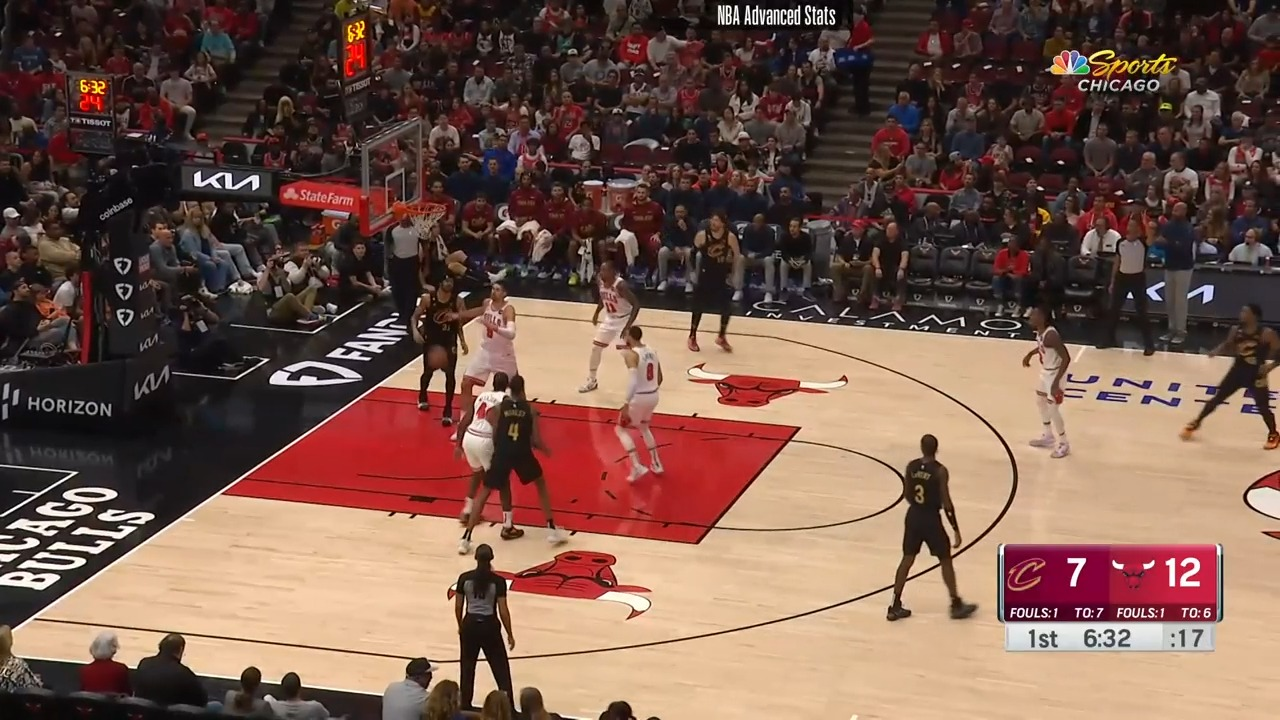net: (380, 193, 453, 241)
player: (878, 434, 975, 629), (484, 371, 572, 550), (1173, 303, 1276, 448), (594, 323, 667, 510), (448, 280, 529, 421), (452, 367, 508, 554), (411, 264, 471, 431), (1015, 305, 1076, 464), (684, 214, 748, 359), (575, 258, 642, 395)
referee: (445, 544, 558, 713), (1097, 216, 1164, 364), (379, 193, 431, 330)
